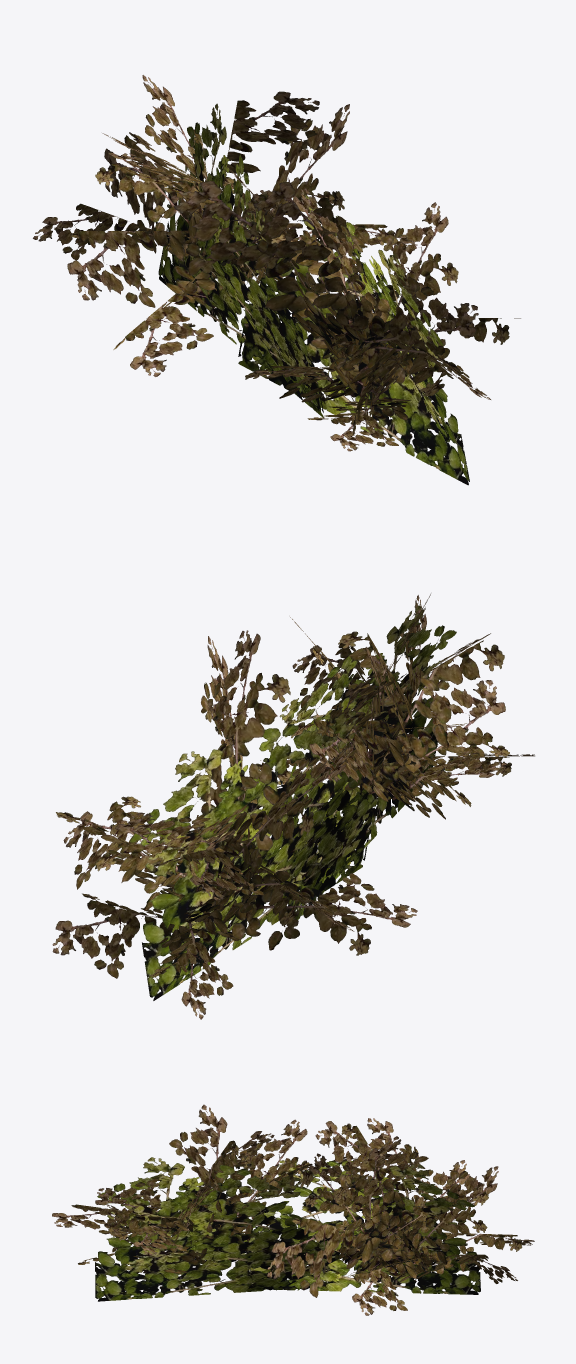
Rendered from KM_BUSH_02.glb.
3 renders of one model, top to bottom at view 1: azimuth 30°, elevation 25°; view 2: azimuth 150°, elevation 25°; view 3: azimuth 270°, elevation 25°, orthographic. The views are drawn at different scales.
Visible parts, largest first — view 1: Mesh; view 2: Mesh; view 3: Mesh.
Part boxes in pixels (x1,y1,x2,y2): Mesh: (33, 75, 520, 485); Mesh: (52, 594, 534, 1019); Mesh: (52, 1104, 534, 1315).
Bounding box in the file's own units: 2.26 × 1.89 × 4.52.
2 materials, 2 textured.
